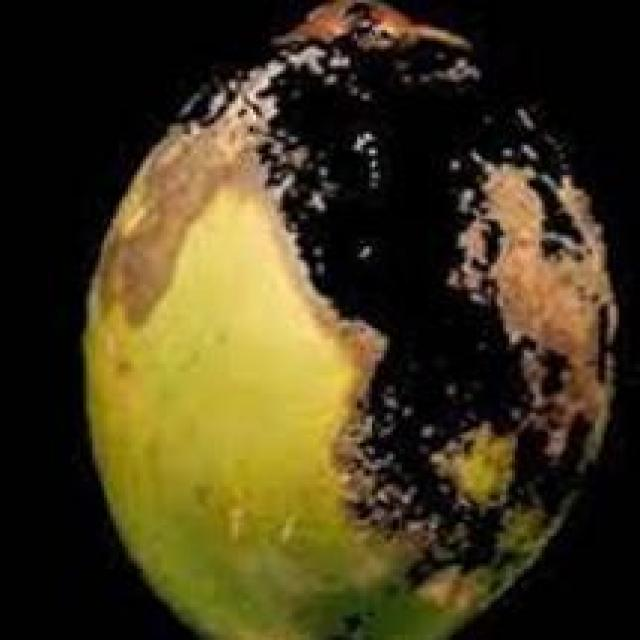damaged: (80, 0, 628, 637)
